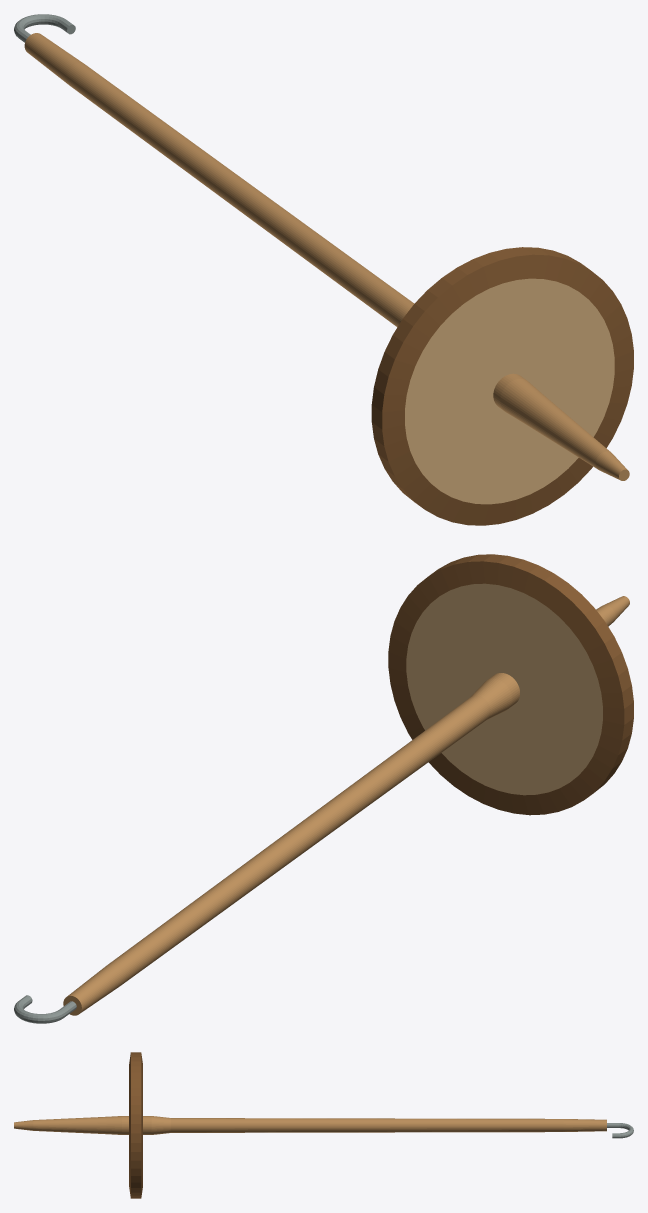
The picture shows the model from 3 angles, top to bottom: view 1: azimuth 30°, elevation 25°; view 2: azimuth 150°, elevation 25°; view 3: azimuth 270°, elevation 25°; orthographic projection. The views are drawn at different scales.
Visible parts, largest first — view 1: WholeFiniteBoredAnnularWhorl, WholeLongTaperedSpindleShaft, WholeContinuousOpenTerminalHook; view 2: WholeFiniteBoredAnnularWhorl, WholeLongTaperedSpindleShaft, WholeContinuousOpenTerminalHook; view 3: WholeLongTaperedSpindleShaft, WholeFiniteBoredAnnularWhorl, WholeContinuousOpenTerminalHook.
Boxes of the visible parts, bbox=[...] form: WholeFiniteBoredAnnularWhorl: bbox=[371, 247, 633, 525]; WholeLongTaperedSpindleShaft: bbox=[24, 33, 629, 480]; WholeContinuousOpenTerminalHook: bbox=[14, 14, 75, 42]; WholeFiniteBoredAnnularWhorl: bbox=[388, 554, 633, 815]; WholeLongTaperedSpindleShaft: bbox=[63, 596, 629, 1015]; WholeContinuousOpenTerminalHook: bbox=[14, 995, 76, 1023]; WholeLongTaperedSpindleShaft: bbox=[14, 1116, 606, 1134]; WholeFiniteBoredAnnularWhorl: bbox=[129, 1052, 142, 1198]; WholeContinuousOpenTerminalHook: bbox=[607, 1123, 633, 1138].
Bounding box in the file's own units: 0.0838 × 0.0838 × 0.3555.
